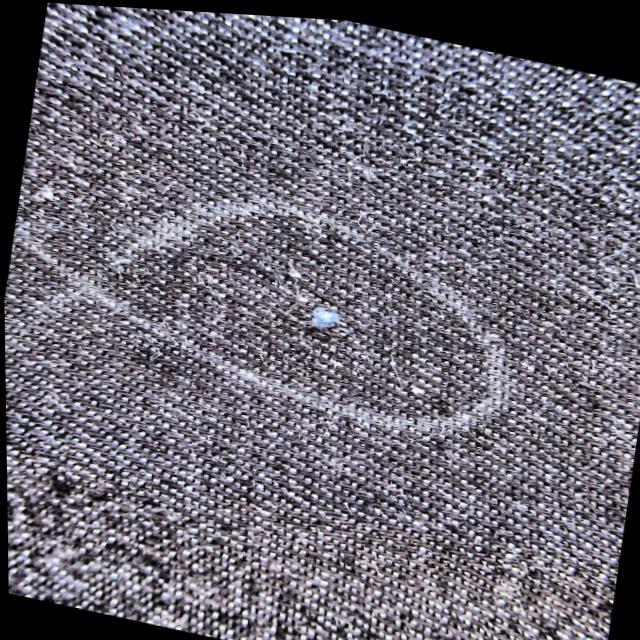Hole: (266, 281, 370, 345)
